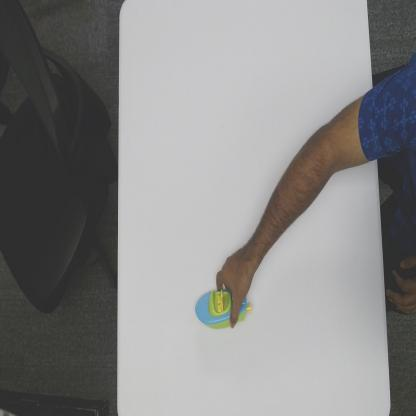Arm: (252, 93, 375, 268)
Boat: (195, 287, 255, 331)
Hand: (216, 245, 254, 330)
